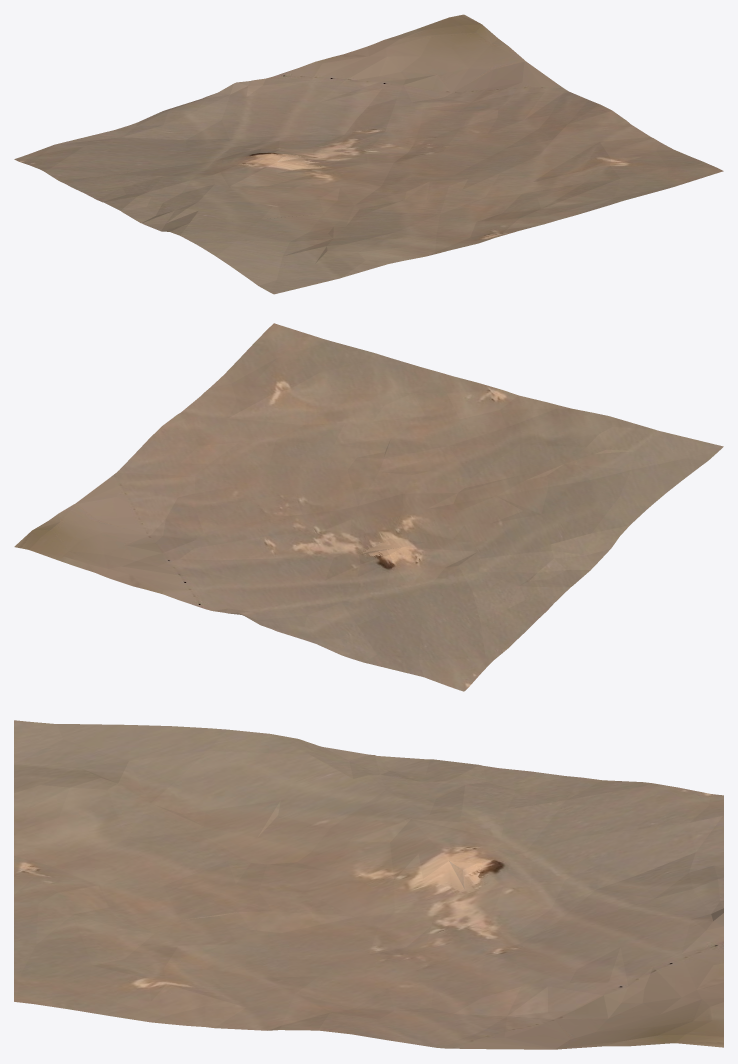
3 views of the same model, one above another, from view 1: azimuth 30°, elevation 25°; view 2: azimuth 150°, elevation 25°; view 3: azimuth 270°, elevation 25° (orthographic). The views are drawn at different scales.
Bounding box in the file's own units: 1.04 × 0.152 × 1.04.
Materials: 2 (2 with a texture image).
